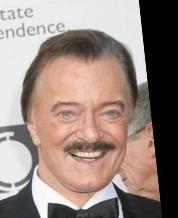face: (55, 101, 122, 166)
